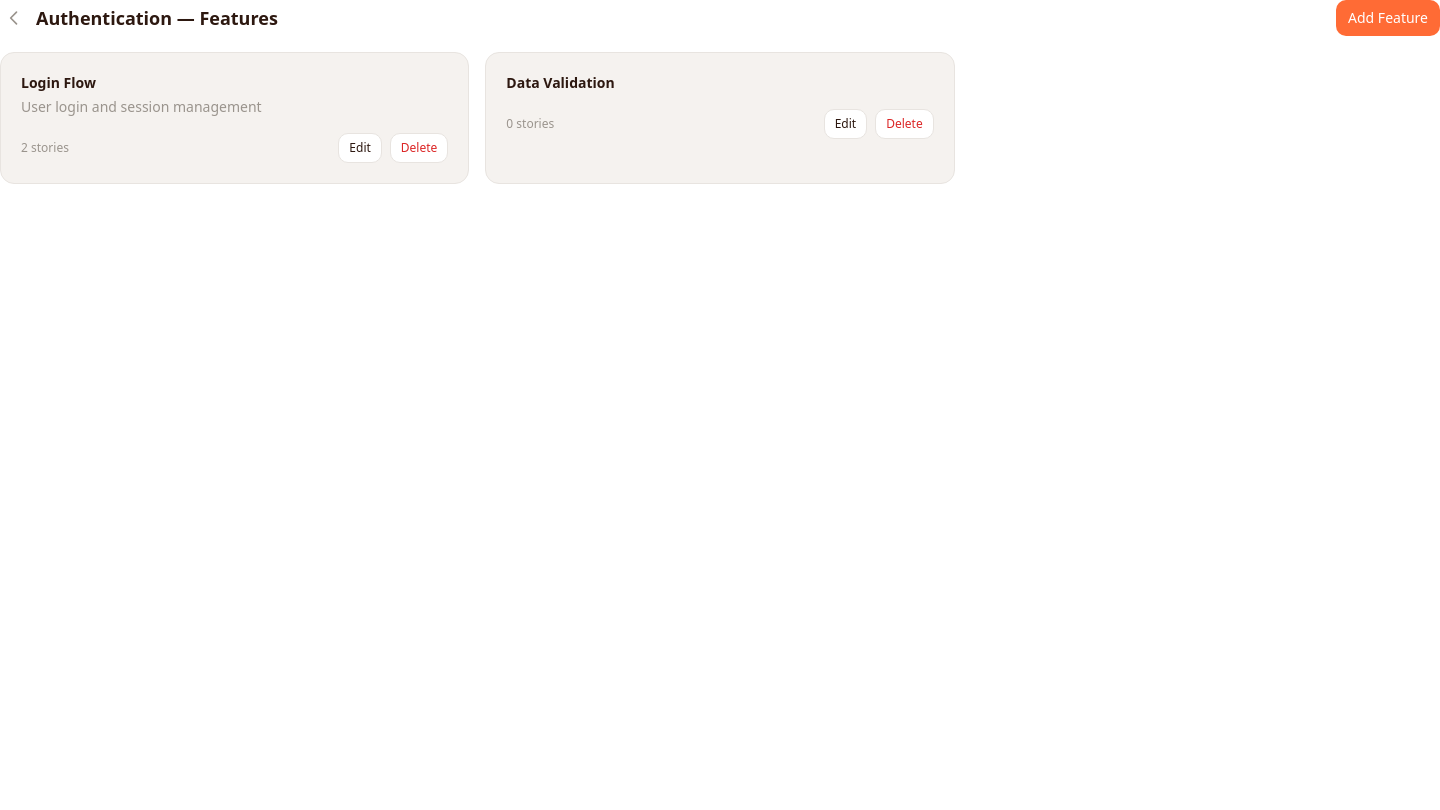
Test case: AppFeatures › opens add dialog when Add Feature clicked
Click the button "Add Feature". click: {"x": 1388, "y": 18}
box: [1336,0,1439,36]
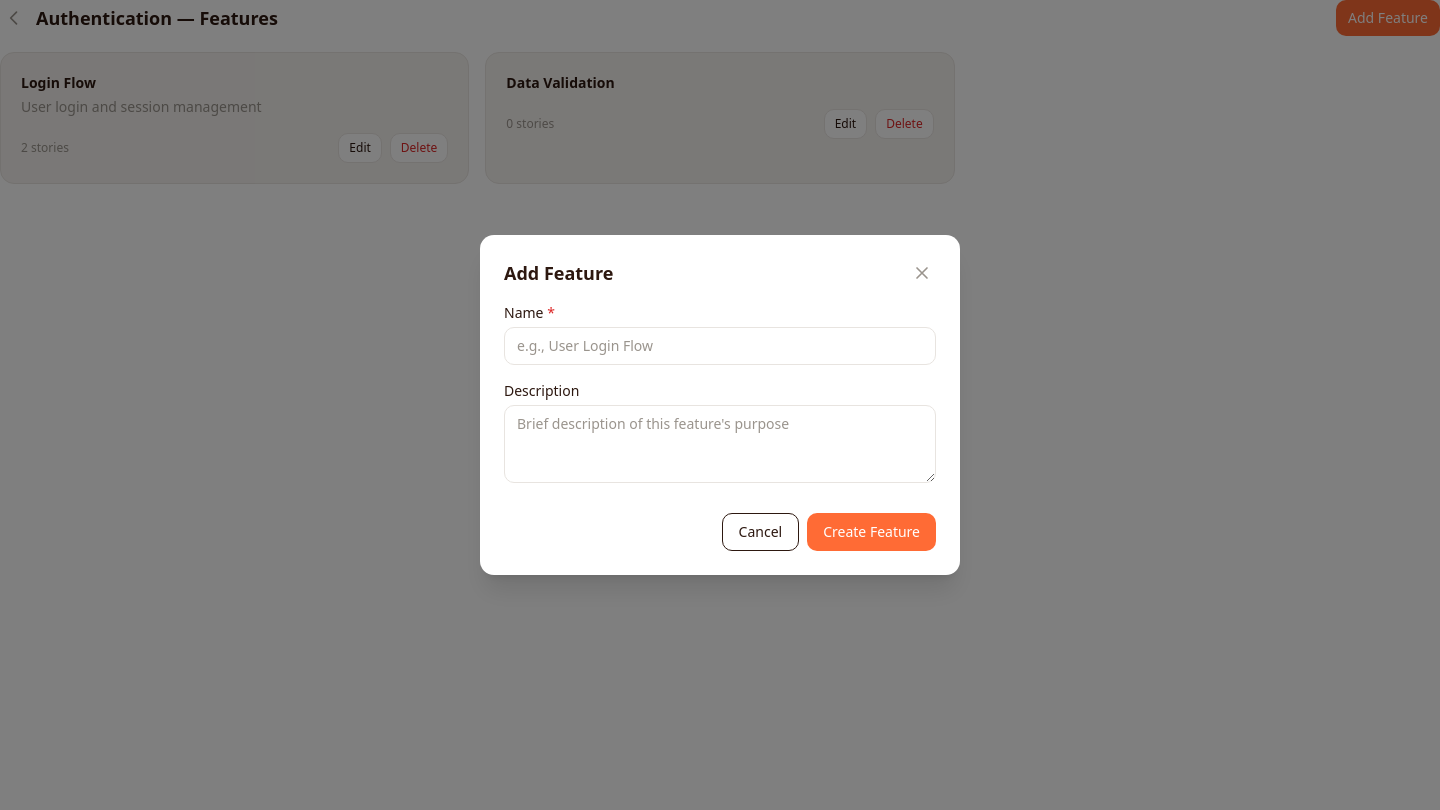
Check: the heading "Add Feature" is shown, box [504,259,613,287]
